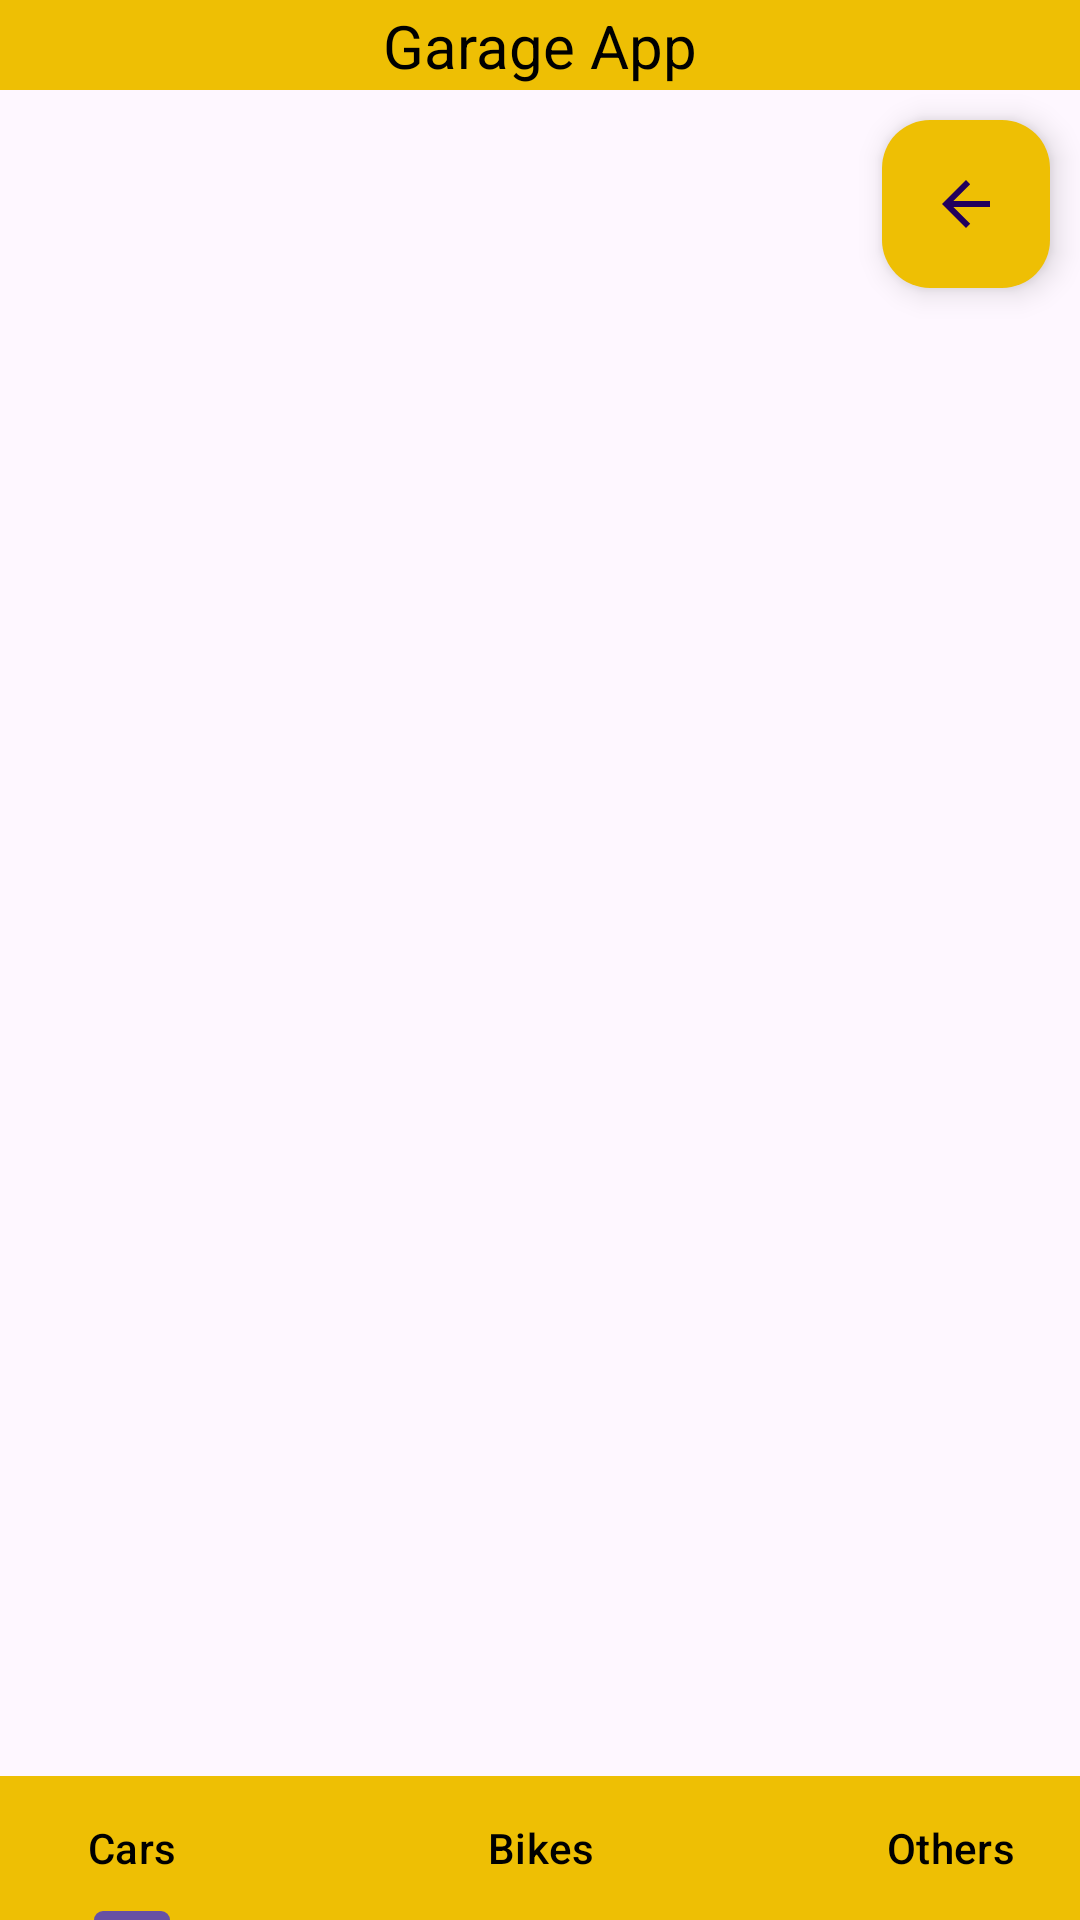

Icon bounding boxes for this 1080px×1920px phone screenshot, format detection(x1, y1, x2, y2):
Go back to the homepage: detection(882, 120, 1050, 288)
